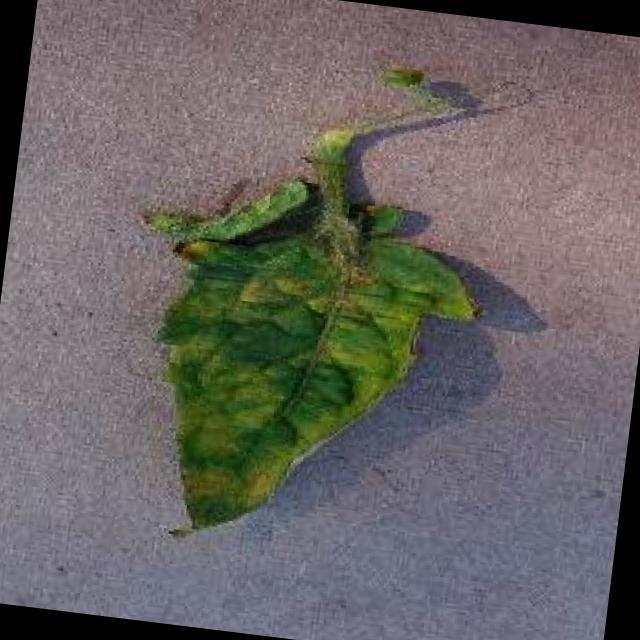Tomato mold leaf: (98, 154, 490, 572)
